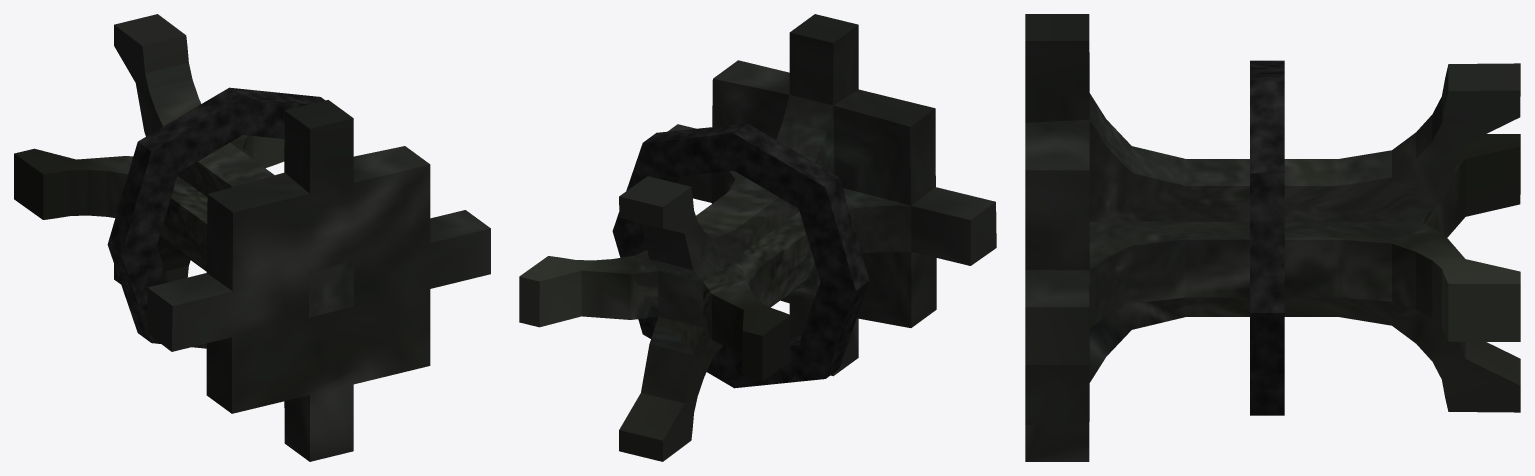
Rendered from pedestal_evil.obj.
3 renders of one model, left to right at view 1: azimuth 30°, elevation 25°; view 2: azimuth 150°, elevation 25°; view 3: azimuth 270°, elevation 25°, orthographic. The views are drawn at different scales.
Parts seen in each view (by area): view 1: Plane, Plane.001; view 2: Plane, Plane.001; view 3: Plane, Plane.001.
Part boxes in pixels (x1,y1,x2,y2): Plane: (14,14,490,461); Plane.001: (107,87,324,348); Plane: (519,14,996,461); Plane.001: (612,123,869,388); Plane: (1025,14,1520,461); Plane.001: (1250,60,1284,415).
Size of the model in its own units: 0.9103 by 0.9081 by 0.9679.
